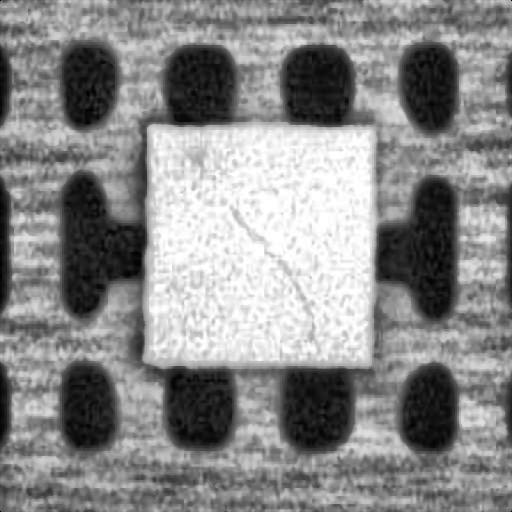DIE_CRACK: (220, 202, 312, 316)
